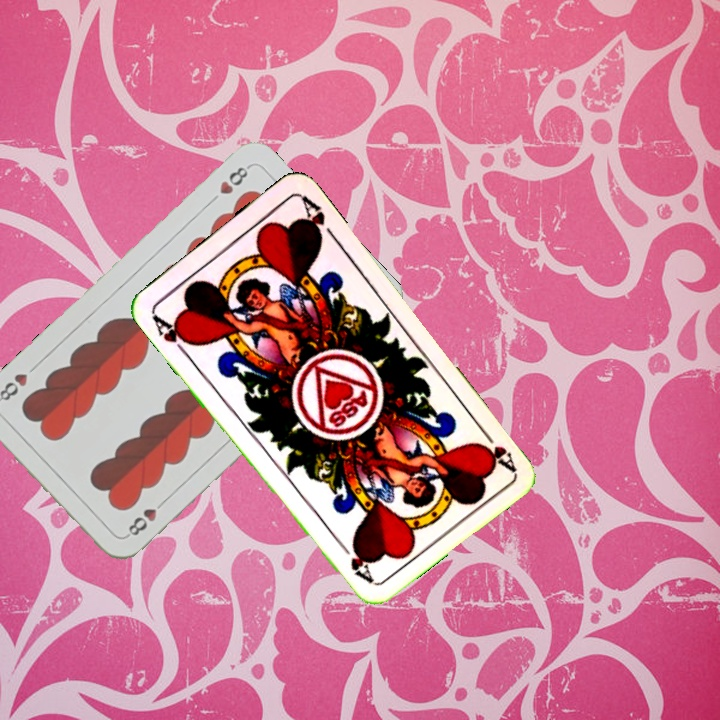H8: (122, 495, 169, 540), (215, 161, 253, 197)
HA: (148, 308, 197, 358), (473, 422, 518, 473)
